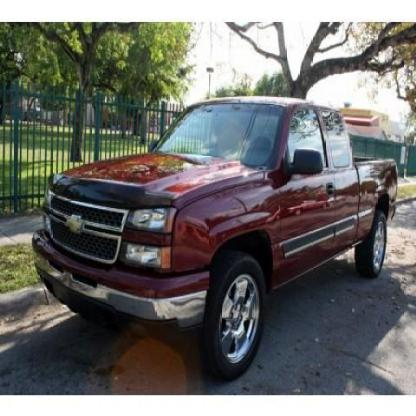Vehicle: (33, 96, 399, 378)
